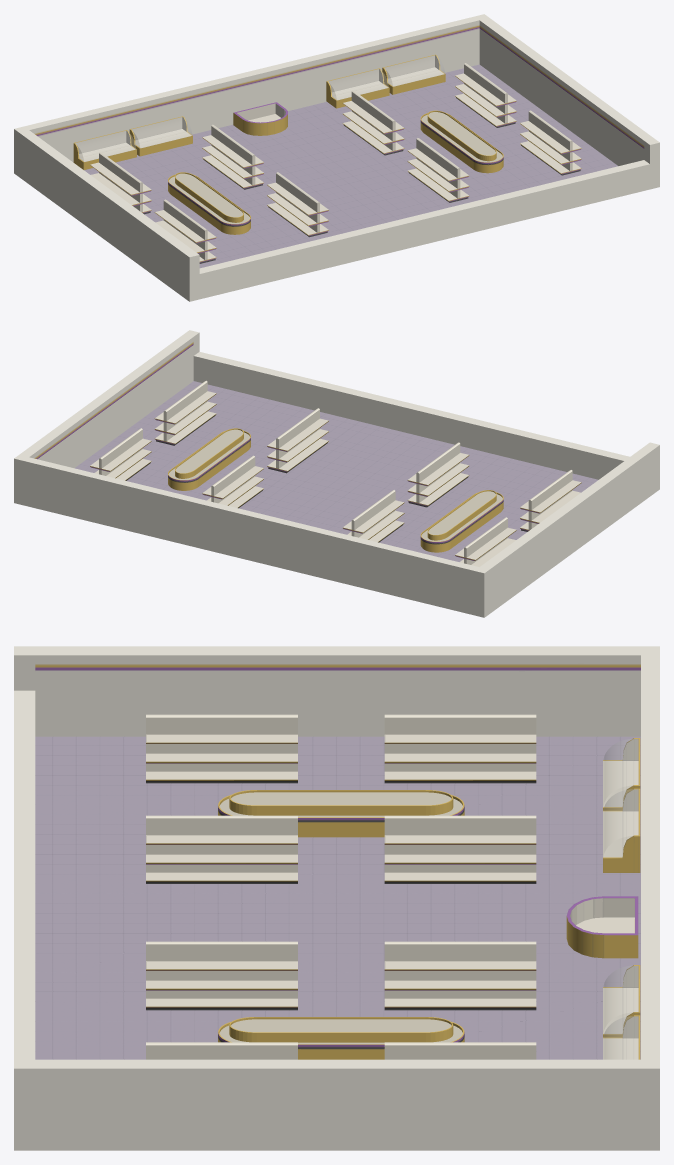
File: Level1_Map.fbx
3 renders of one model, top to bottom at view 1: azimuth 30°, elevation 25°; view 2: azimuth 150°, elevation 25°; view 3: azimuth 270°, elevation 25°, orthographic. The views are drawn at different scales.
Visible parts, largest first — view 1: blockout:pCylinder5; view 2: blockout:pCylinder5; view 3: blockout:pCylinder5.
Part boxes in pixels (x1,y1,x2,y2): blockout:pCylinder5: (14, 14, 659, 301); blockout:pCylinder5: (14, 330, 659, 617); blockout:pCylinder5: (14, 646, 659, 1150).
Bounding box in the file's own units: 1388 × 126 × 897.
7 materials, 6 textured.
